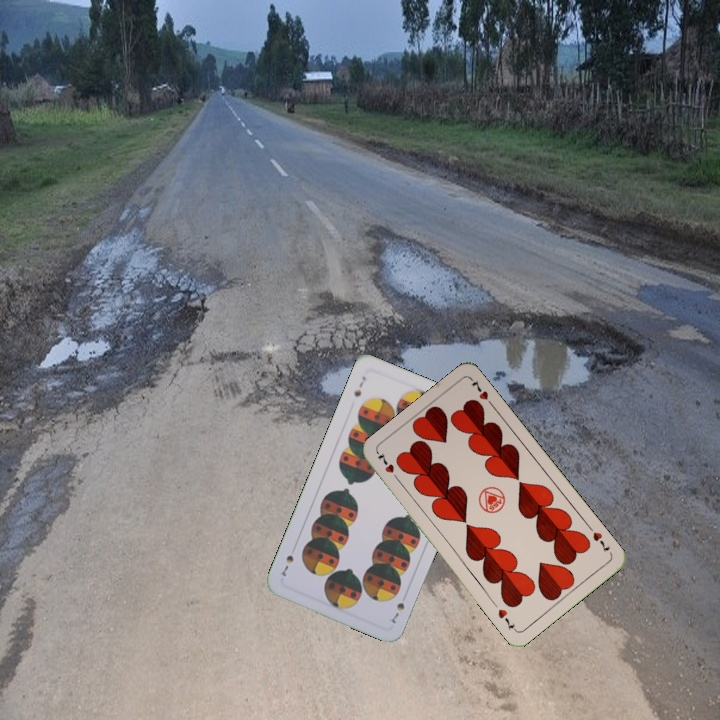H7: (373, 449, 402, 484), (584, 522, 613, 554)
S7: (387, 598, 407, 626), (350, 372, 369, 399)
